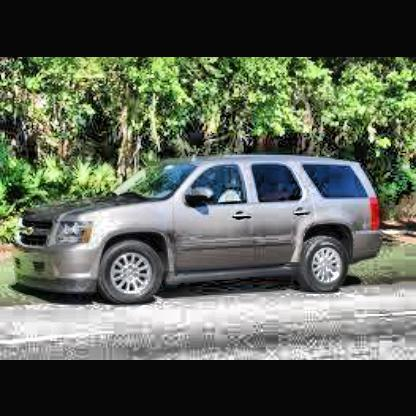Chevrolet Tahoe Hybrid SUV 2012: (17, 156, 385, 306)
